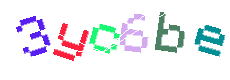3: (0, 0, 80, 80)
6: (73, 0, 153, 80)
B: (84, 0, 164, 80)
C: (63, 0, 143, 80)
E: (147, 0, 227, 80)
Y: (30, 0, 110, 80)
